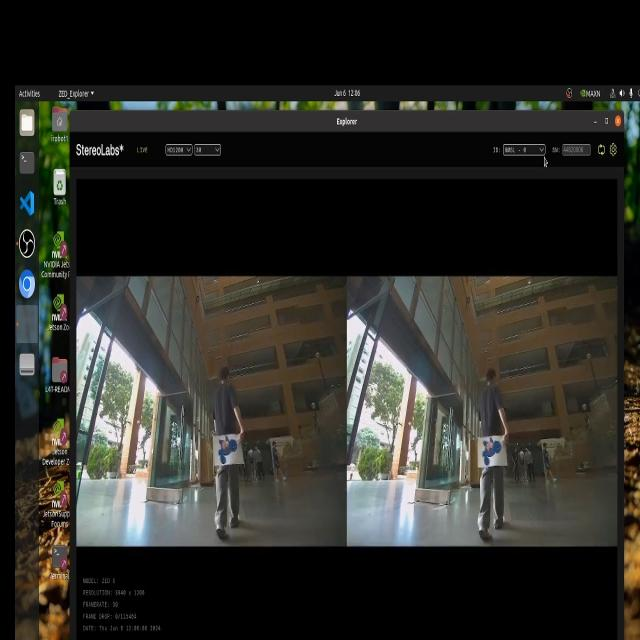blue: (216, 431, 252, 474), (477, 443, 501, 469)
